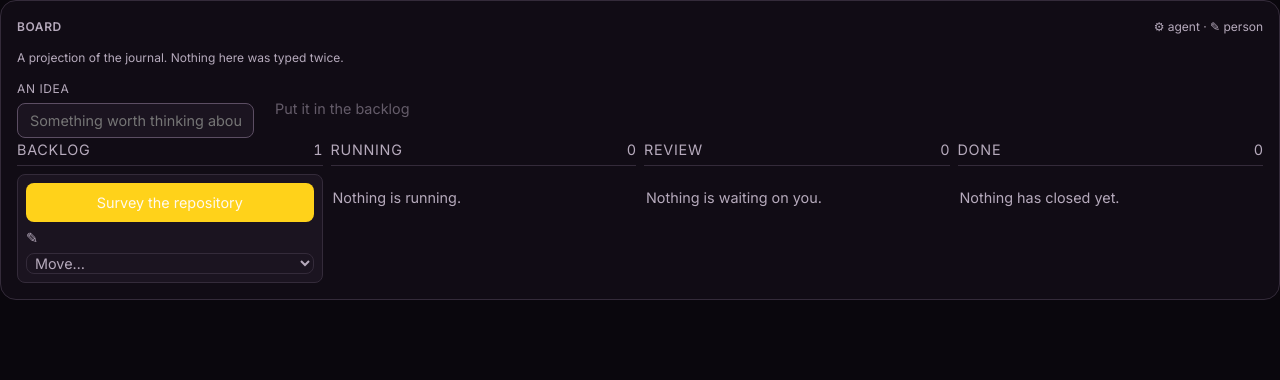
Scenario: a command that REJECTS puts the card back › and a rejection does not become an unhandled promise
Select "Running" in the dropdown with class "task-card-move". click: (170, 263)
box: [26,253,314,274]
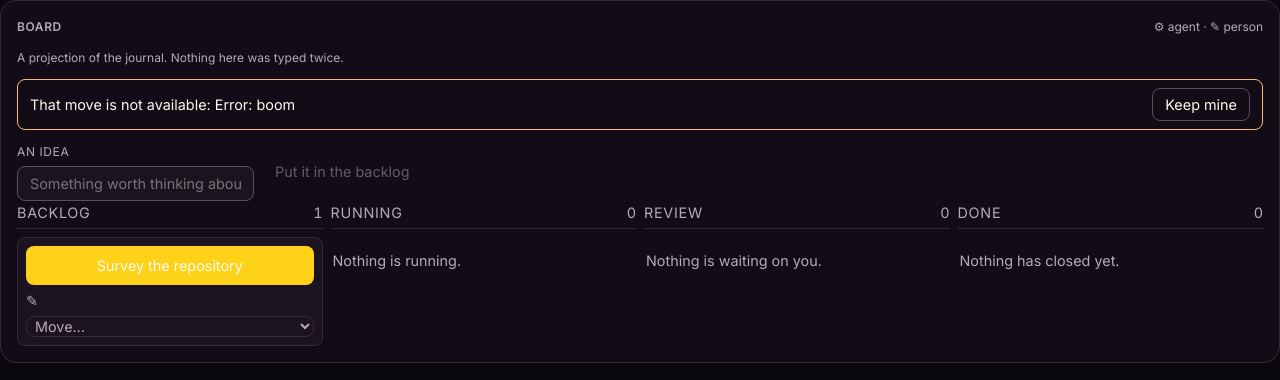
Check: the message "That move is not available: Error: boom Keep mine" is shown, box [17,79,1263,130]
